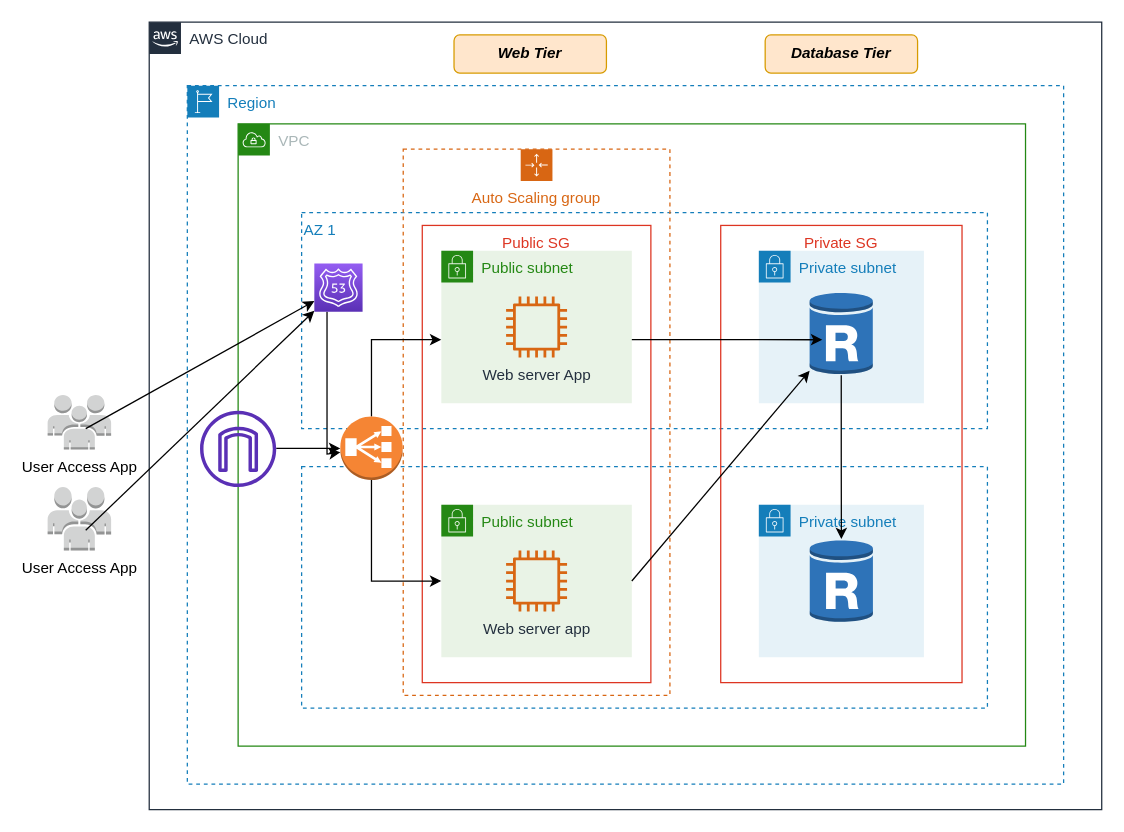
Some shapes in this 1124 by 832 pixel diagram are drawn without their labels. Each missing label, with the centre of its shape:
"AZ 2" belongs at (643,586).
"RDS" belongs at (840,332).
"Read Replicas" belongs at (840,580).
